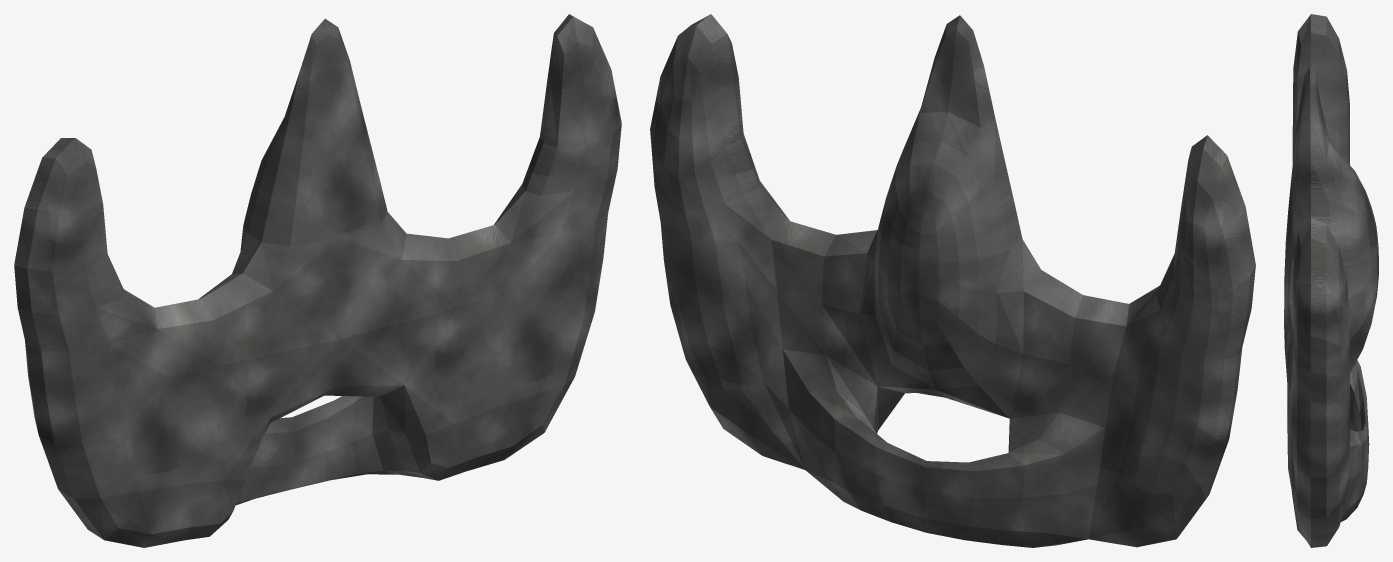
File: drone2.dae
3 views of the same model, side by side, from view 1: azimuth 30°, elevation 25°; view 2: azimuth 150°, elevation 25°; view 3: azimuth 270°, elevation 25° (orthographic). The views are drawn at different scales.
Parts seen in each view (by area): view 1: Cube_001; view 2: Cube_001; view 3: Cube_001.
Part boxes in pixels (box(x1,y1,x2,y2)): Cube_001: box(14, 14, 621, 547); Cube_001: box(650, 14, 1255, 547); Cube_001: box(1284, 14, 1378, 547).
Size of the model in its own units: 8.71 by 1.42 by 6.85.
